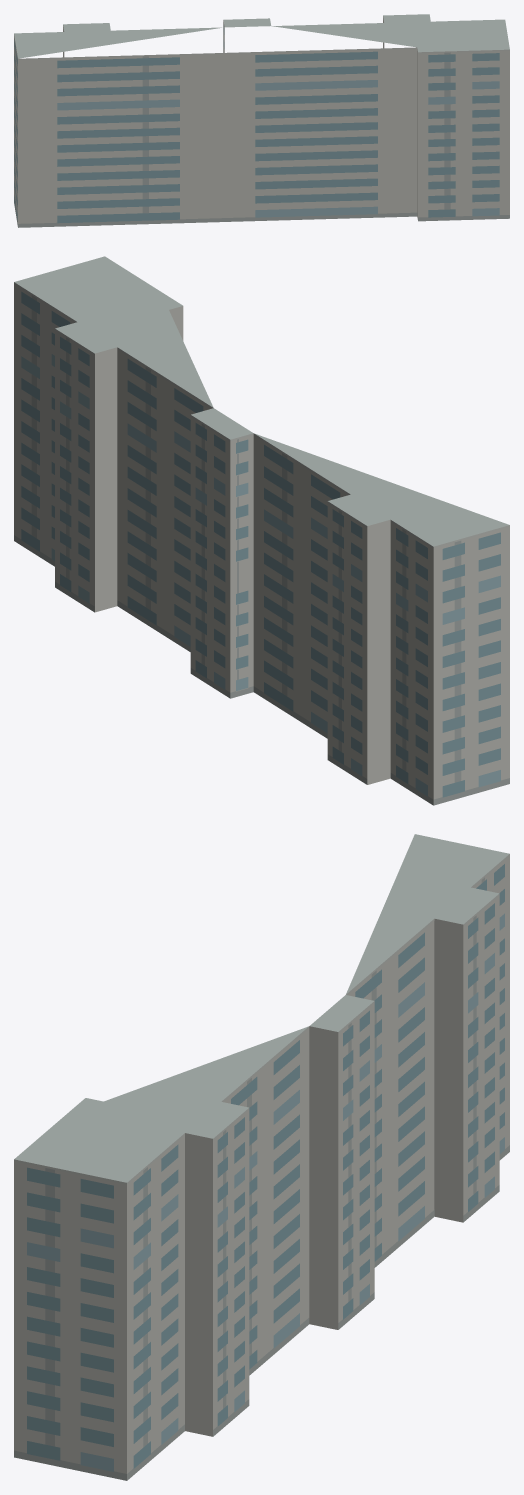
The model's file is residential-ba92852a-3cc2-47b3-8df0-9d3a300d14cb.glb.
The picture shows the model from 3 angles, top to bottom: view 1: azimuth 30°, elevation 25°; view 2: azimuth 150°, elevation 25°; view 3: azimuth 270°, elevation 25°; orthographic projection. The views are drawn at different scales.
Visible parts, largest first — view 1: residential-ba92852a-3cc2-47b3-8df0-9d3a300d14cb.tmp; view 2: residential-ba92852a-3cc2-47b3-8df0-9d3a300d14cb.tmp; view 3: residential-ba92852a-3cc2-47b3-8df0-9d3a300d14cb.tmp.
Boxes of the visible parts, x1,y1,x2,y2 form: residential-ba92852a-3cc2-47b3-8df0-9d3a300d14cb.tmp: [14, 14, 509, 227]; residential-ba92852a-3cc2-47b3-8df0-9d3a300d14cb.tmp: [14, 256, 509, 805]; residential-ba92852a-3cc2-47b3-8df0-9d3a300d14cb.tmp: [14, 834, 509, 1480].
Bounding box in the file's own units: 90.35 × 36 × 54.29.
